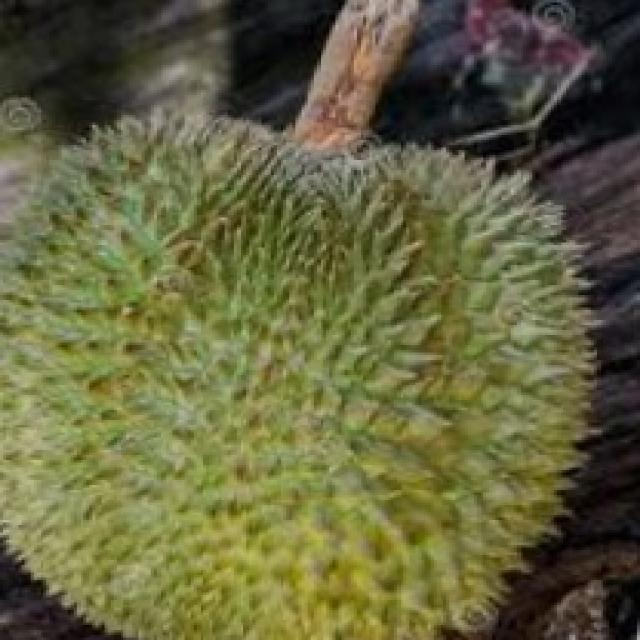fruit: (255, 92, 640, 502), (3, 290, 366, 640), (304, 267, 640, 640)
